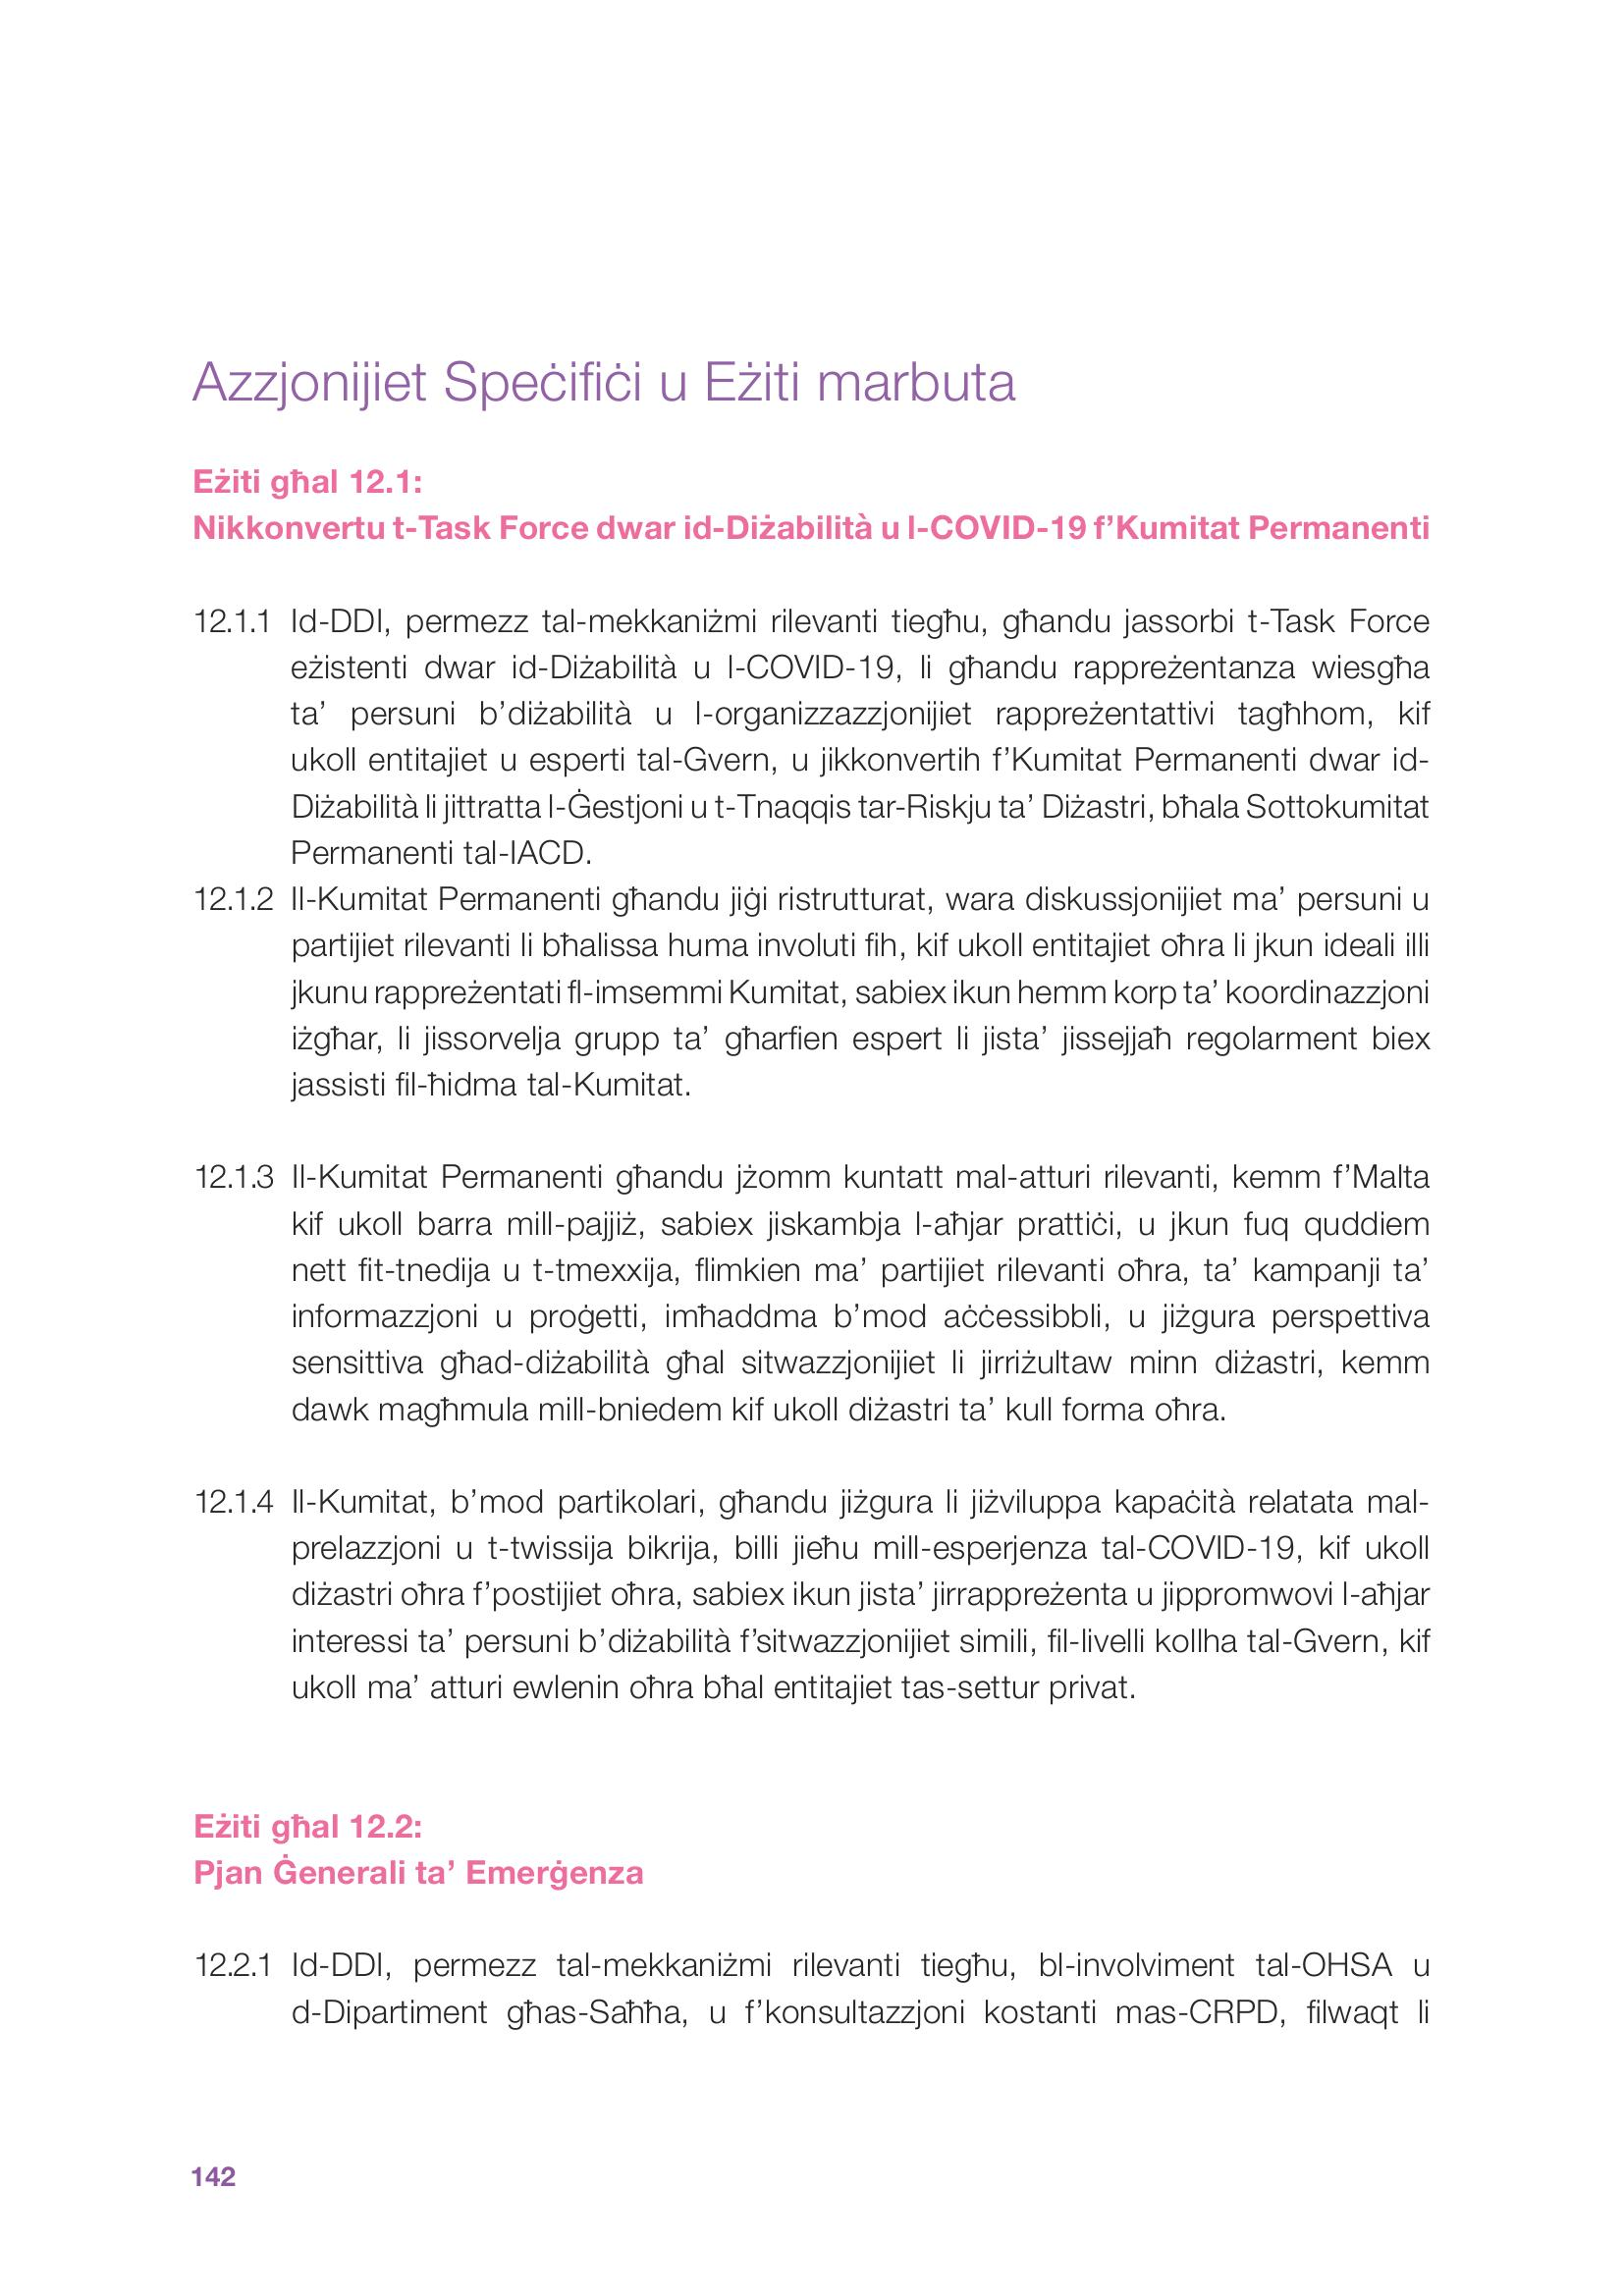text: (169, 334, 1471, 2089)
